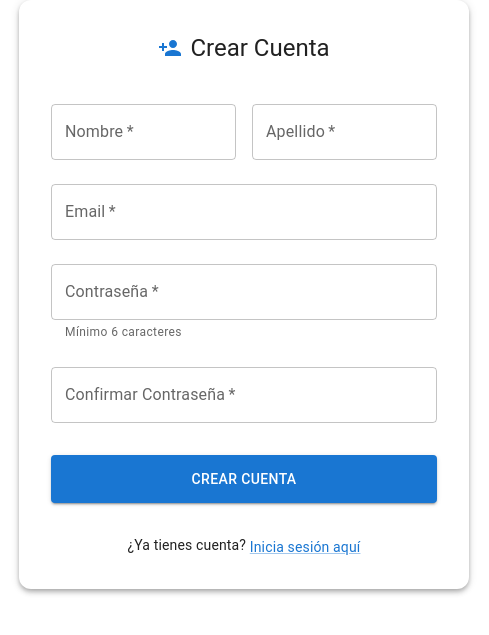
Test: Register Component › muestra error si el nombre está vacío
Type "Pérez" into the field labelled "Apellido *" at (344, 132), box left=252, top=104, right=437, bottom=160
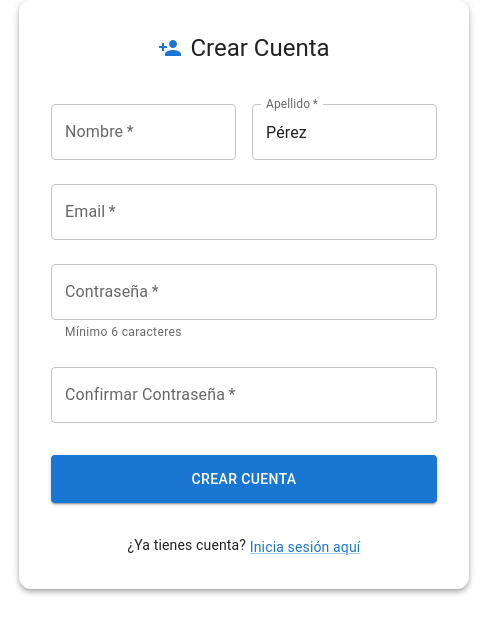
Type "juan@example.com" into the field labelled "Email *" at (244, 212), box left=51, top=184, right=437, bottom=240
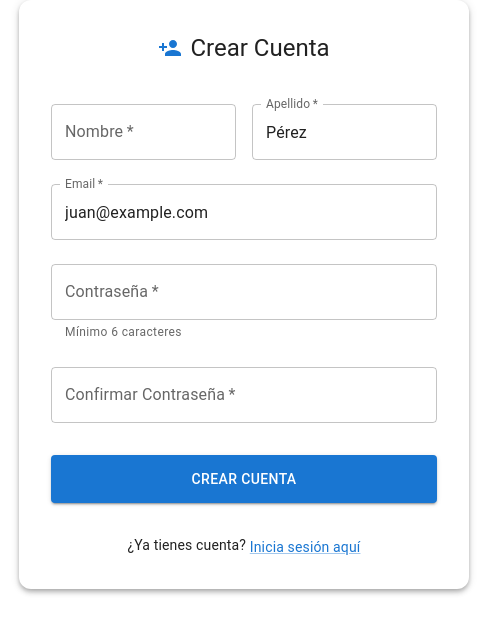
Type "123456" into the password field labelled "Contraseña *" at (244, 292), box left=51, top=264, right=437, bottom=320
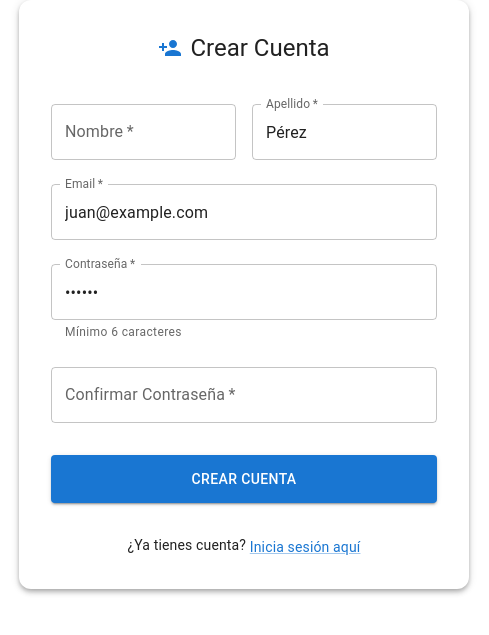
Type "123456" into the password field labelled "Confirmar Contraseña *" at (244, 395), box left=51, top=367, right=437, bottom=423
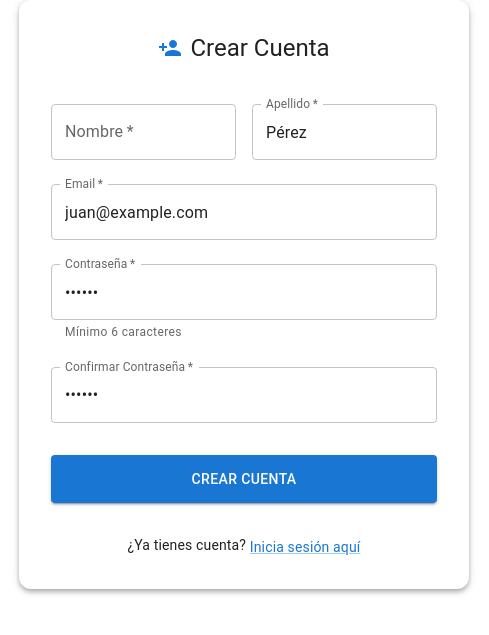
Submit the form from the button "Crear Cuenta", box left=51, top=455, right=437, bottom=503
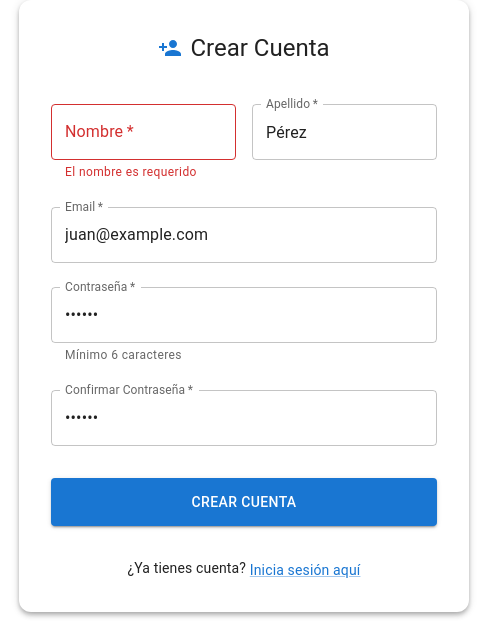
Result: the text "El nombre es requerido" is shown at left=65, top=165, right=197, bottom=179
